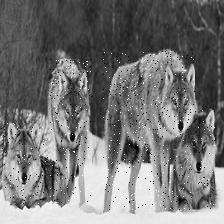WOLF: (102, 52, 194, 211), (49, 60, 91, 204), (0, 124, 47, 205), (179, 111, 214, 212)
